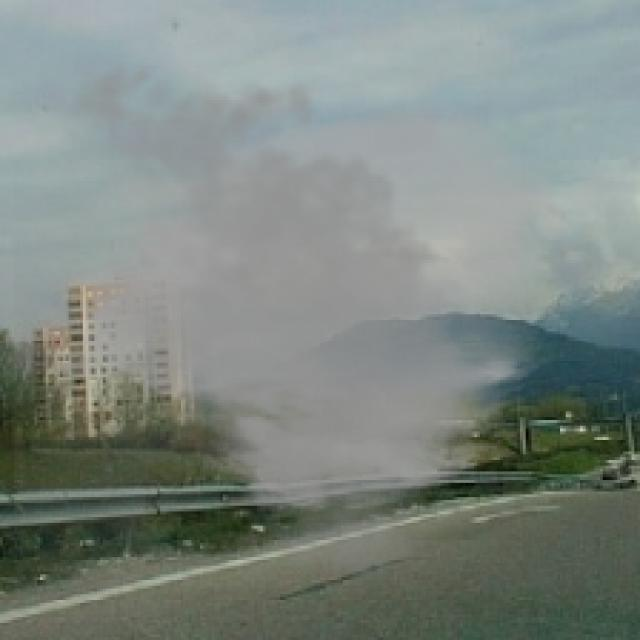smoke: (14, 46, 572, 588)
